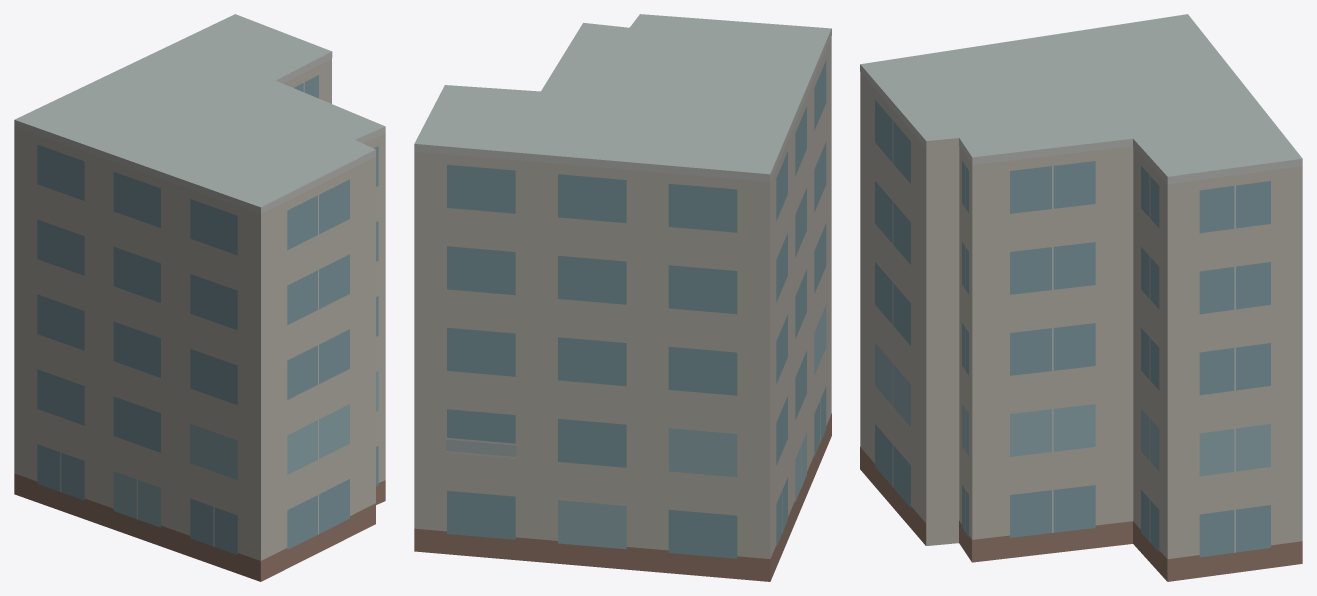
The model's file is survey-upis-33020590.glb.
3 renders of one model, left to right at view 1: azimuth 30°, elevation 25°; view 2: azimuth 150°, elevation 25°; view 3: azimuth 270°, elevation 25°, orthographic. The views are drawn at different scales.
Parts seen in each view (by area): view 1: survey-upis-33020590.tmp; view 2: survey-upis-33020590.tmp; view 3: survey-upis-33020590.tmp.
Boxes of the visible parts, x1=… form: survey-upis-33020590.tmp: x1=14, y1=14, x2=385, y2=581; survey-upis-33020590.tmp: x1=414, y1=14, x2=831, y2=581; survey-upis-33020590.tmp: x1=860, y1=14, x2=1302, y2=581.
Bounding box in the file's own units: 11.3 × 13.1 × 12.98.
